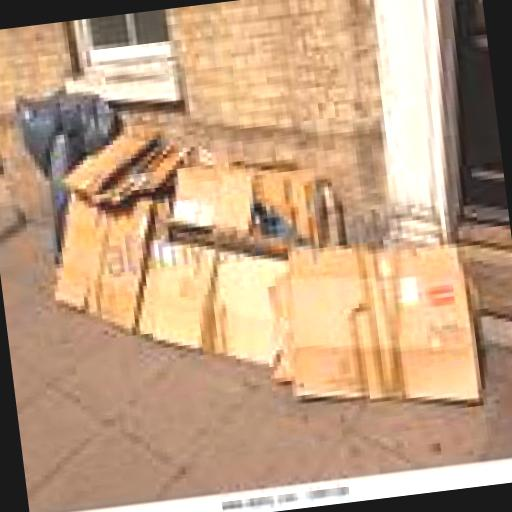cardboard: (258, 219, 483, 422), (122, 221, 298, 383), (160, 147, 340, 270), (34, 176, 164, 342), (52, 116, 192, 215)
paper: (10, 77, 119, 172)
